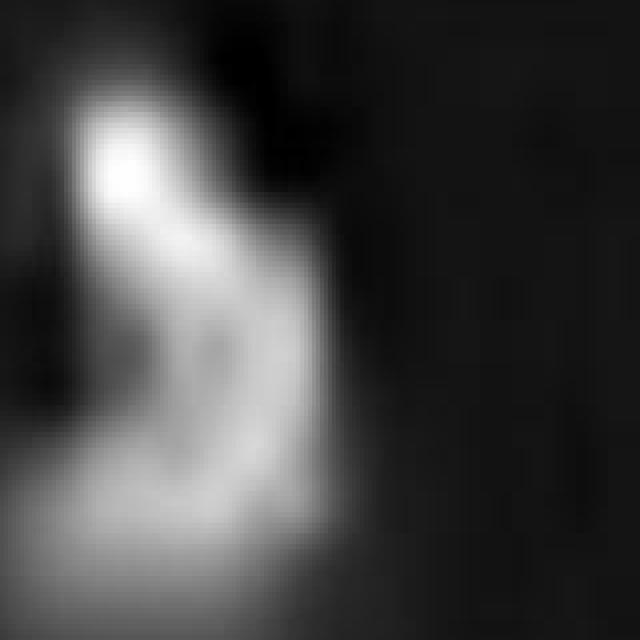person: (1, 33, 361, 640)
